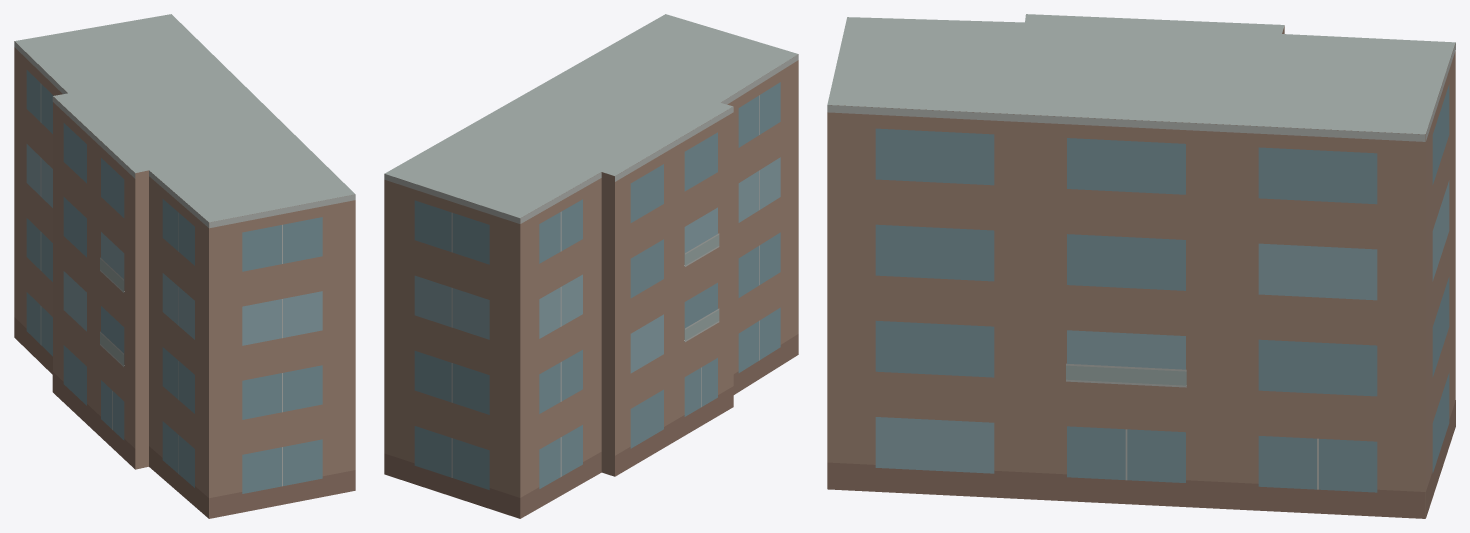
The model's file is survey-upis-32933411.glb.
3 renders of one model, left to right at view 1: azimuth 30°, elevation 25°; view 2: azimuth 150°, elevation 25°; view 3: azimuth 270°, elevation 25°, orthographic. The views are drawn at different scales.
Parts seen in each view (by area): view 1: survey-upis-32933411.tmp; view 2: survey-upis-32933411.tmp; view 3: survey-upis-32933411.tmp.
Part boxes in pixels (left/top/right/bottom): survey-upis-32933411.tmp: left=14, top=14, right=355, bottom=518; survey-upis-32933411.tmp: left=384, top=14, right=798, bottom=518; survey-upis-32933411.tmp: left=827, top=14, right=1455, bottom=518.
Size of the model in its own units: 8.34 by 12.4 by 18.38.
